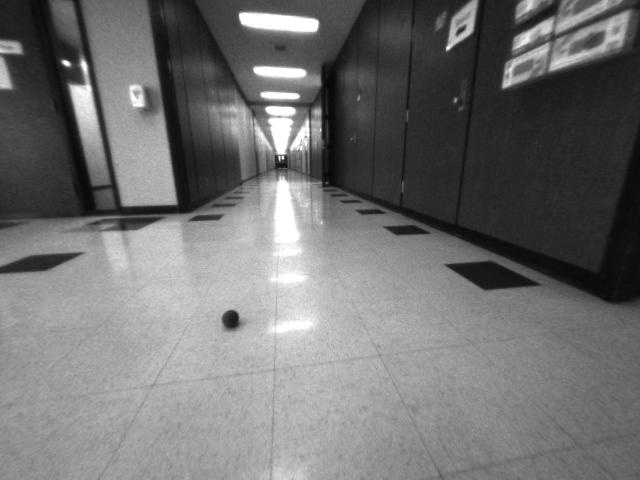dogtoy: (209, 300, 251, 335)
